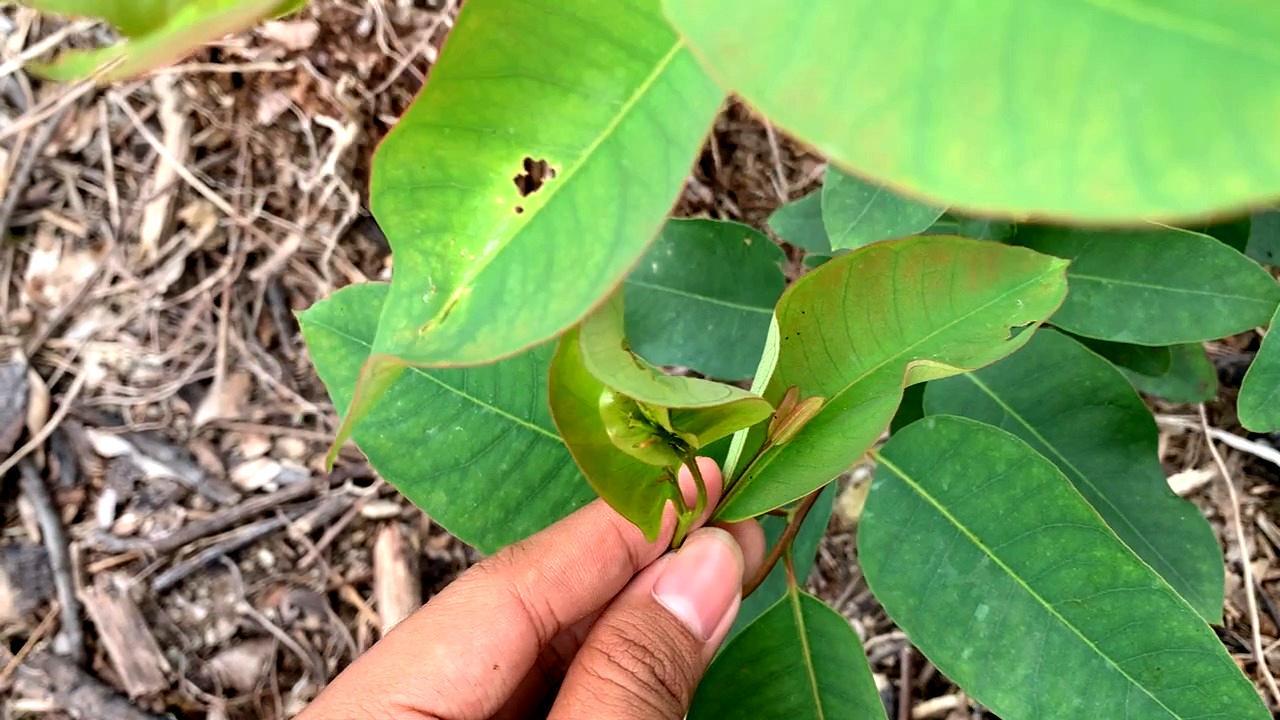Leaf Roller - Leaf: (547, 316, 769, 538)
